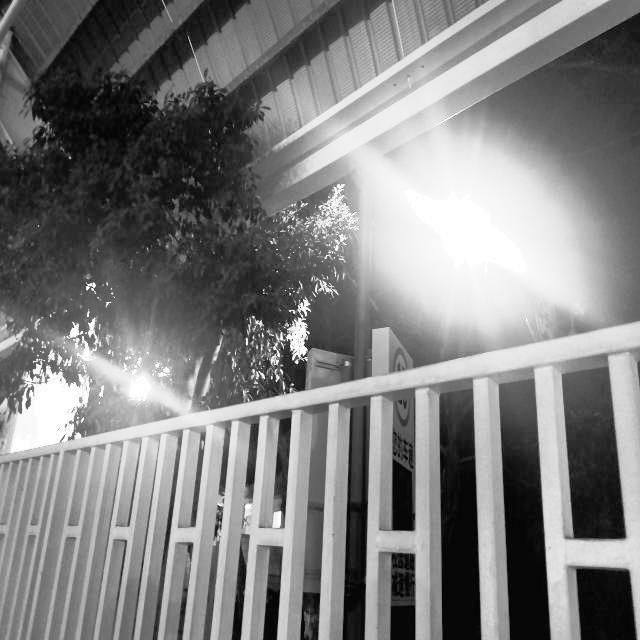Light: (419, 187, 512, 290), (108, 353, 182, 418)
